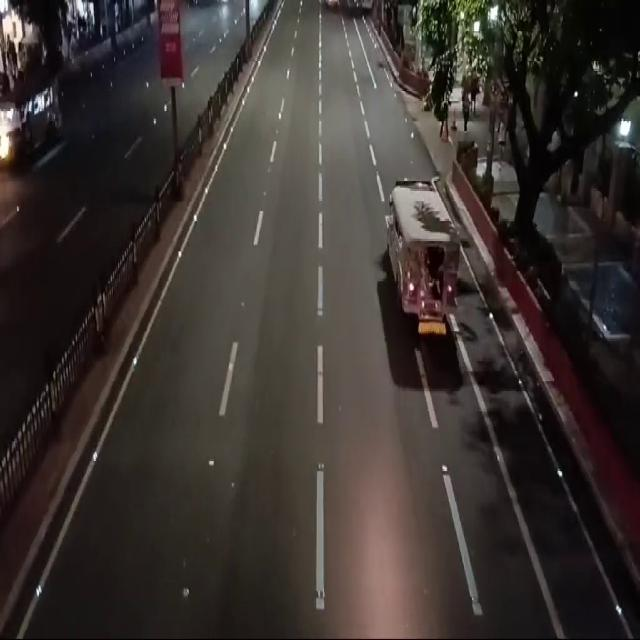jeepney: (389, 172, 459, 341)
